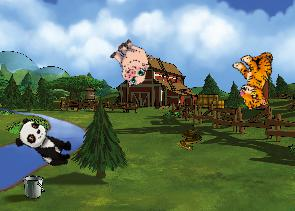panda: (11, 115, 78, 171)
pig: (103, 34, 159, 90)
tiger: (226, 46, 287, 112)
